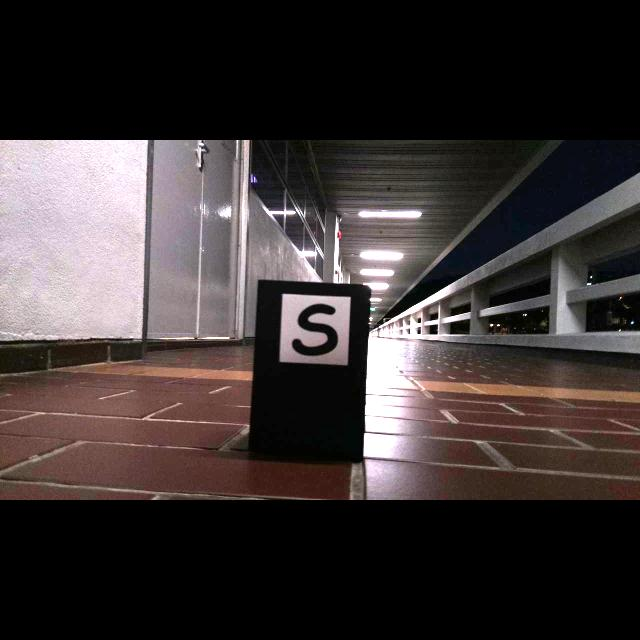S: (291, 302, 338, 357)
